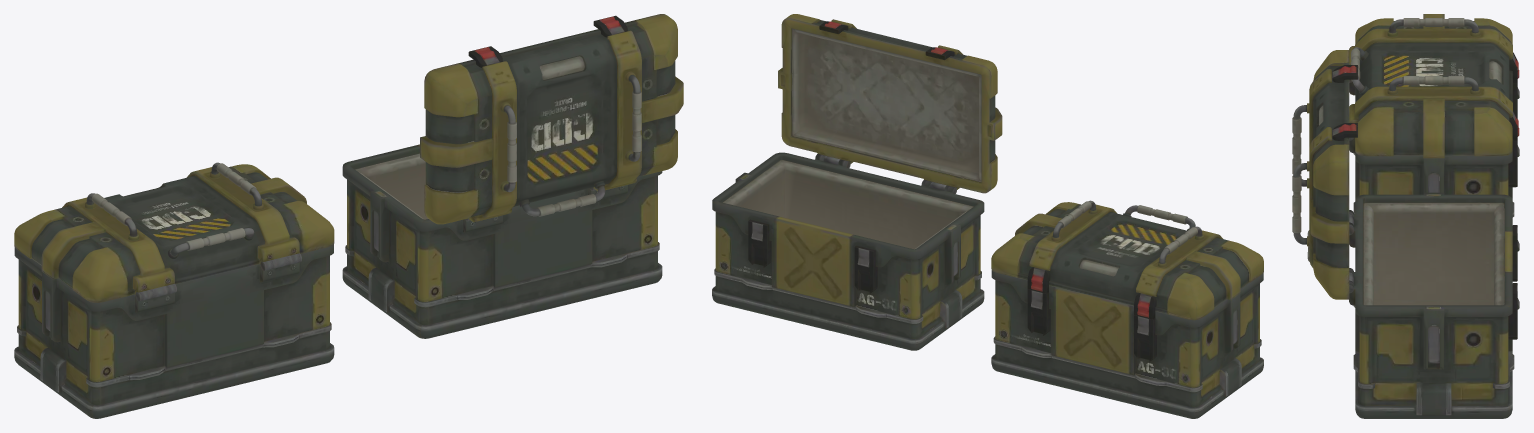
The model's file is ammo-crate.glb.
3 views of the same model, side by side, from view 1: azimuth 30°, elevation 25°; view 2: azimuth 150°, elevation 25°; view 3: azimuth 270°, elevation 25° (orthographic). The views are drawn at different scales.
Parts seen in each view (by area): view 1: CrateBase_Low.001, CrateLid_Low, CrateBase_Low; view 2: CrateBase_Low.001, CrateBase_Low, CrateLid_Low; view 3: CrateBase_Low, CrateBase_Low.001, CrateLid_Low.
Boxes of the visible parts, box(x1,y1,x2,y2) form: CrateBase_Low.001: box(14, 162, 334, 418); CrateLid_Low: box(420, 14, 683, 224); CrateBase_Low: box(342, 144, 662, 338); CrateBase_Low.001: box(991, 200, 1263, 418); CrateBase_Low: box(712, 152, 984, 350); CrateLid_Low: box(778, 14, 1002, 193); CrateBase_Low: box(1349, 192, 1519, 418); CrateBase_Low.001: box(1349, 14, 1519, 217); CrateLid_Low: box(1292, 50, 1357, 299).
Size of the model in its own units: 2.38 by 1.1 by 0.8468.
4 materials, 4 textured.
